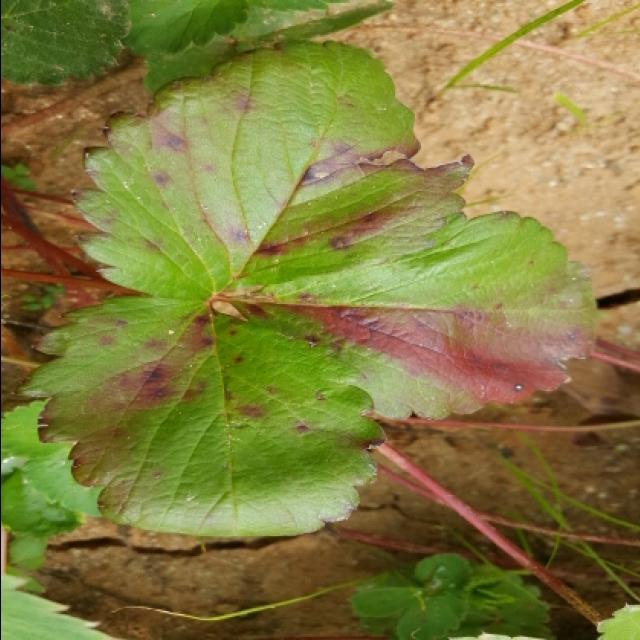Leaf Spot: (69, 38, 471, 301), (5, 295, 385, 538), (223, 209, 597, 423)
